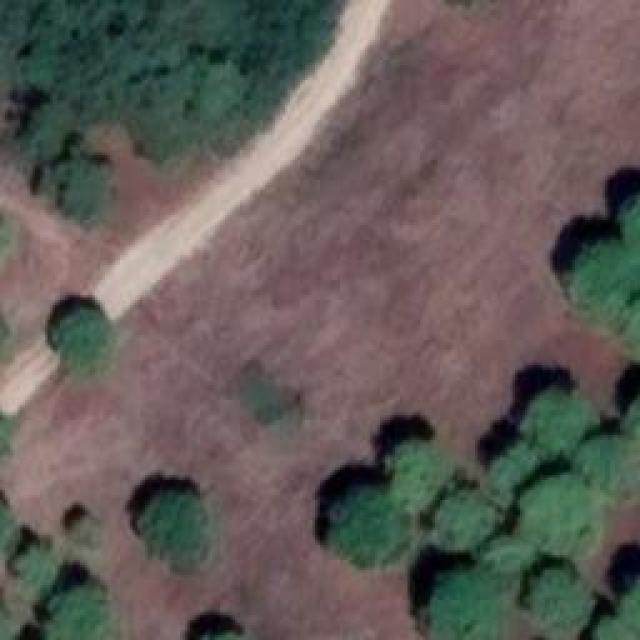Tree: (522, 473, 600, 553), (328, 490, 403, 570), (565, 237, 638, 315), (425, 570, 505, 640), (48, 305, 113, 380), (145, 490, 208, 565), (530, 565, 593, 638), (378, 438, 441, 511), (525, 390, 595, 453), (430, 490, 493, 555), (195, 55, 248, 123), (47, 587, 112, 640), (483, 440, 543, 495), (60, 163, 110, 228), (590, 440, 640, 505), (493, 535, 536, 590), (15, 548, 55, 591), (617, 287, 640, 354), (622, 193, 640, 256), (73, 518, 103, 548), (625, 573, 640, 633), (593, 625, 638, 640)
